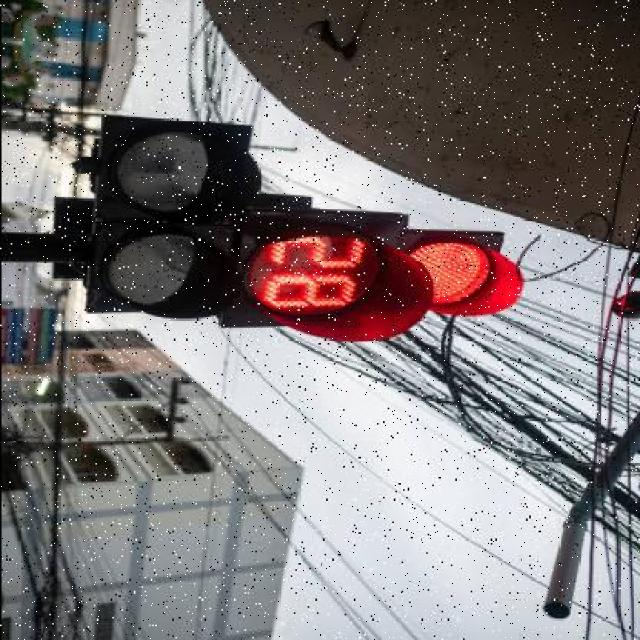red-light: (225, 196, 598, 336)
